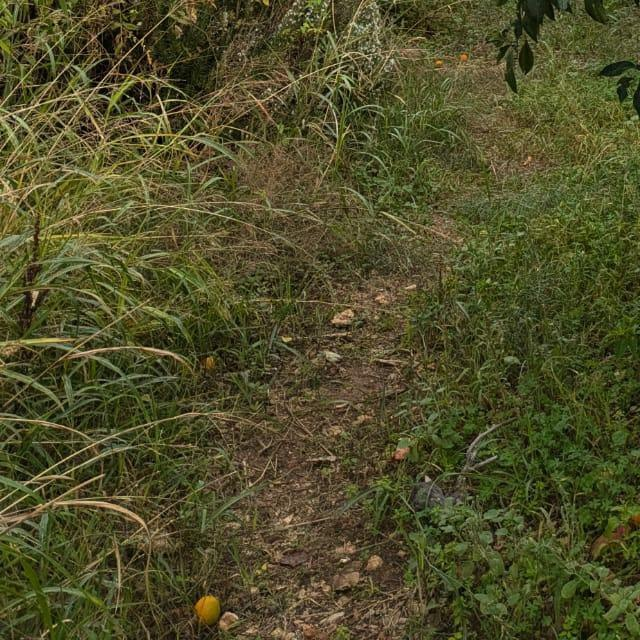orange: (193, 593, 223, 623)
